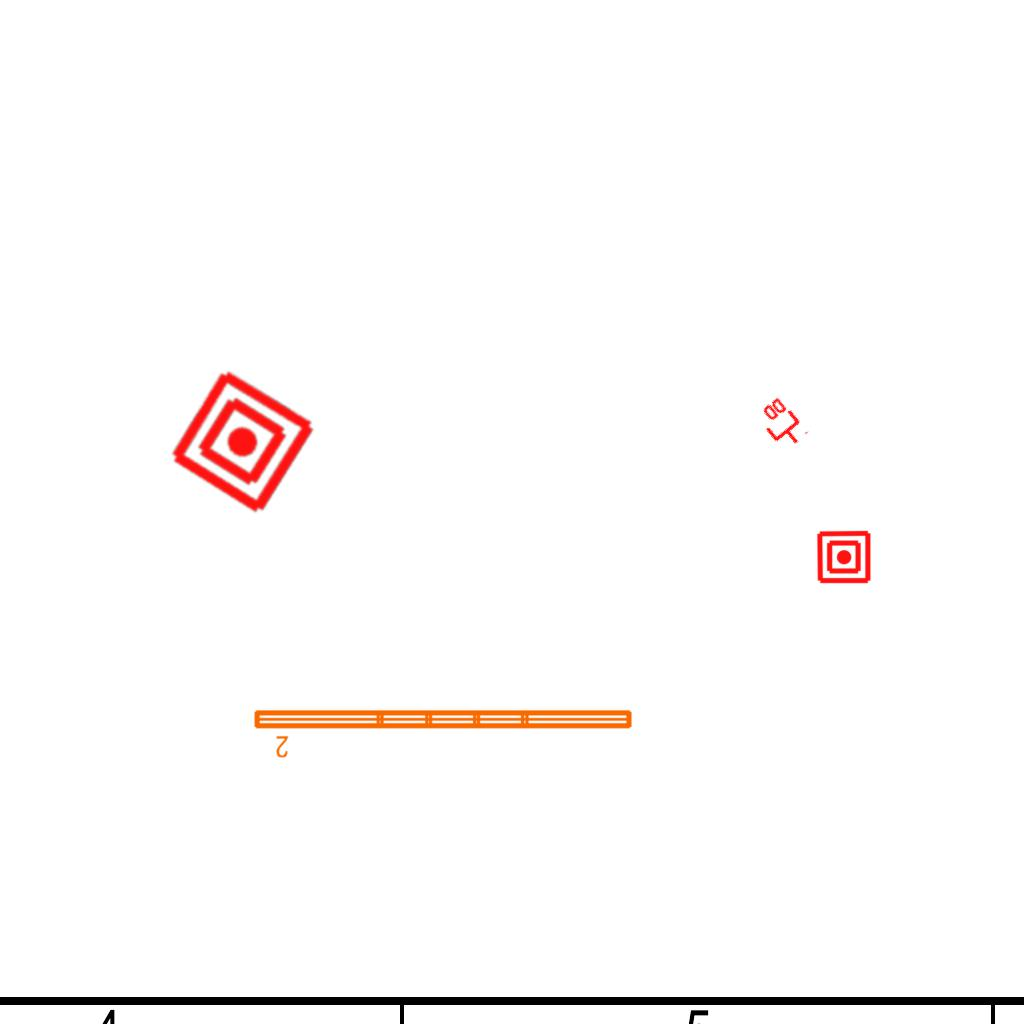Ambulanz_Pendelleuchte_LED: (250, 704, 637, 760)
Datenanschluss_zweifach: (751, 393, 811, 456)
NAM-Nichtautomatischer_Melder: (164, 363, 321, 520), (816, 529, 872, 585)
